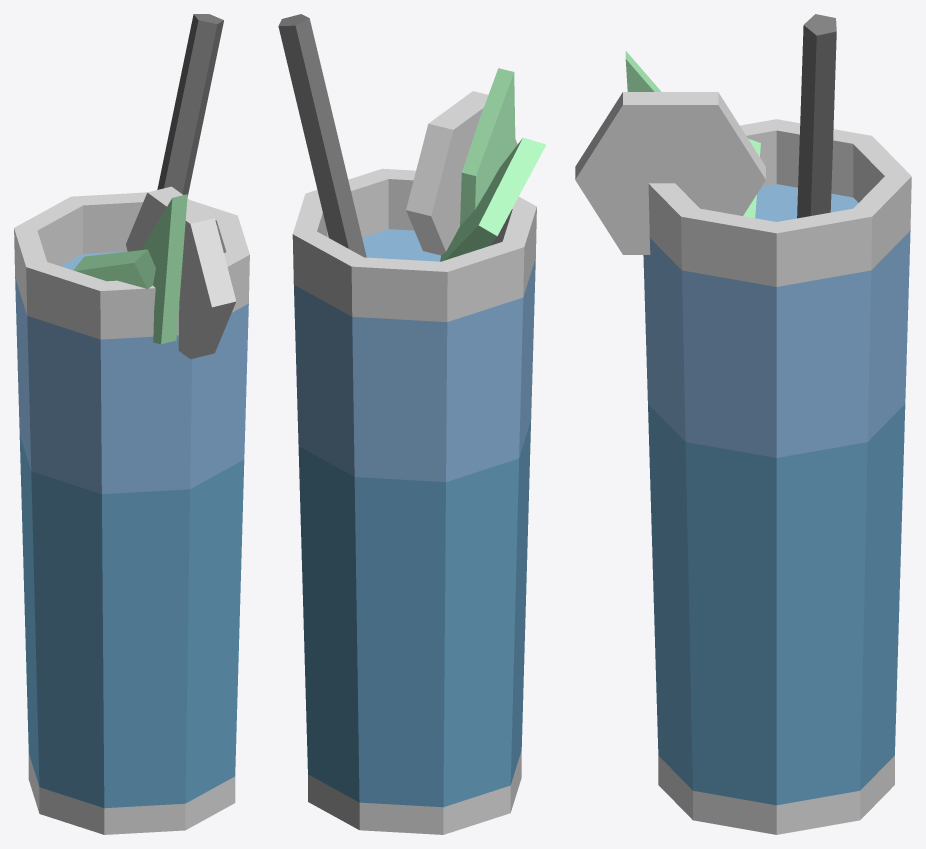
The model's file is drink.fbx.
3 views of the same model, side by side, from view 1: azimuth 30°, elevation 25°; view 2: azimuth 150°, elevation 25°; view 3: azimuth 270°, elevation 25° (orthographic). The views are drawn at different scales.
Parts seen in each view (by area): view 1: Cylinder; view 2: Cylinder; view 3: Cylinder.
Part boxes in pixels (x1=…): Cylinder: x1=14, y1=14, x2=249, y2=834; Cylinder: x1=278, y1=14, x2=545, y2=834; Cylinder: x1=575, y1=14, x2=911, y2=834.
Bounding box in the file's own units: 9.52 × 31.06 × 11.6.
